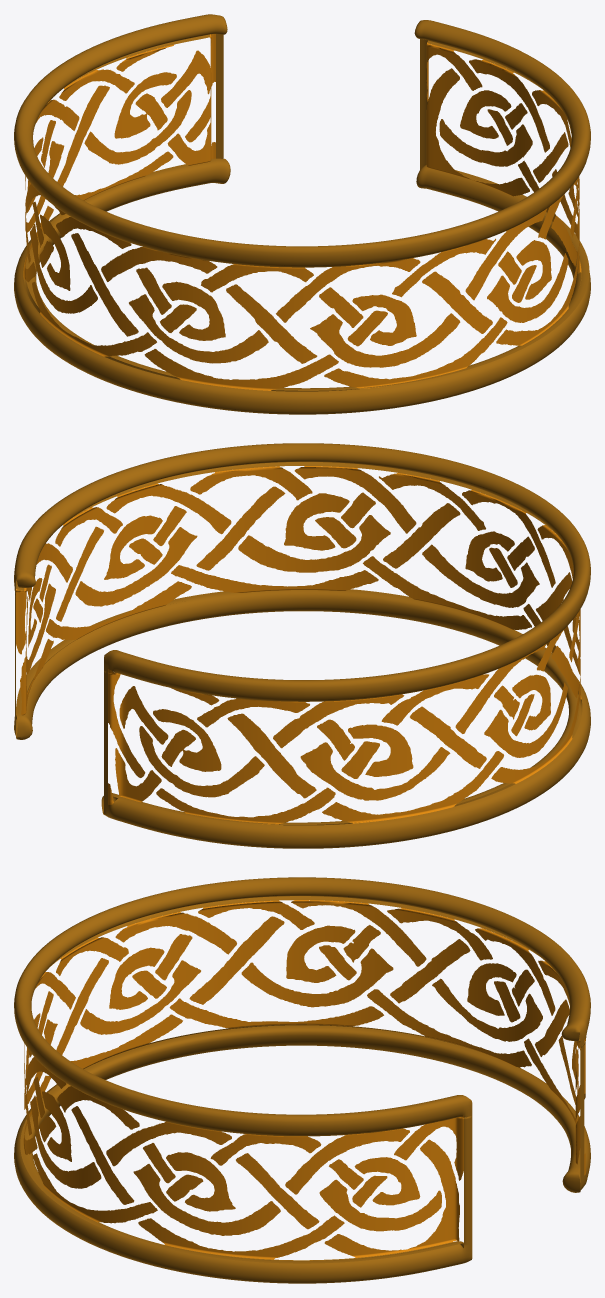
The model's file is bracelet.gltf.
3 renders of one model, top to bottom at view 1: azimuth 30°, elevation 25°; view 2: azimuth 150°, elevation 25°; view 3: azimuth 270°, elevation 25°, orthographic.
Parts seen in each view (by area): view 1: Circle.002, Circle.001; view 2: Circle.002, Circle.001; view 3: Circle.002, Circle.001.
Boxes of the visible parts, bbox=[...] form: Circle.002: bbox=[23, 34, 581, 390]; Circle.001: bbox=[14, 14, 590, 414]; Circle.002: bbox=[16, 466, 581, 824]; Circle.001: bbox=[14, 443, 590, 848]; Circle.002: bbox=[23, 900, 585, 1259]; Circle.001: bbox=[14, 877, 590, 1283].
Size of the model in its own units: 1.98 by 0.6396 by 1.98.
Materials: 2 (1 with a texture image).
